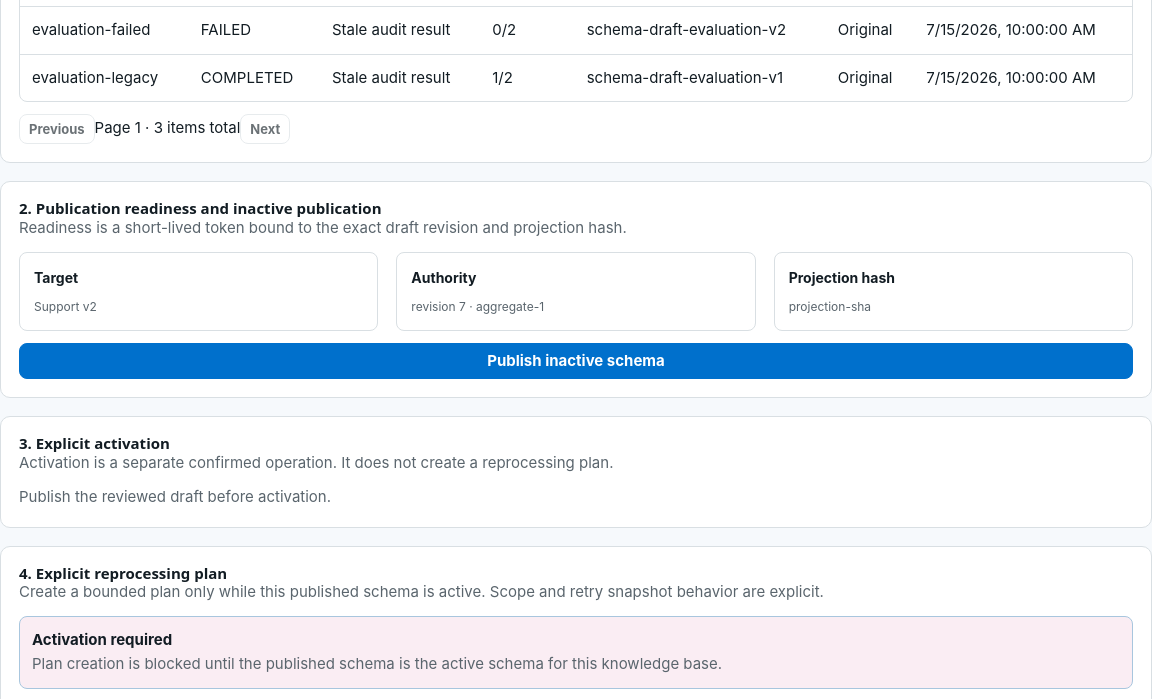
Test: SchemaDraftReleaseWorkflow › does not retry a stale publication token automatically
The image size is (1152, 699).
(page scrolled)
Click the button "Publish inactive schema" at (576, 361), box left=19, top=343, right=1133, bottom=379
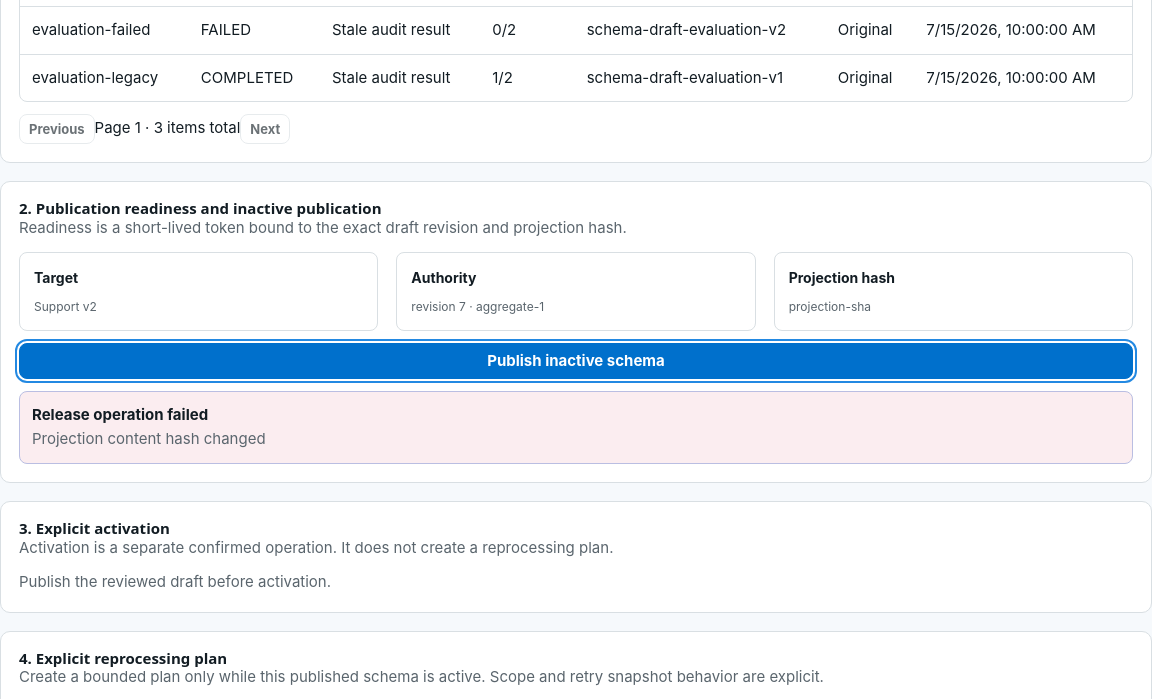
Result: the text "Projection content hash changed" is shown at left=32, top=429, right=266, bottom=448
